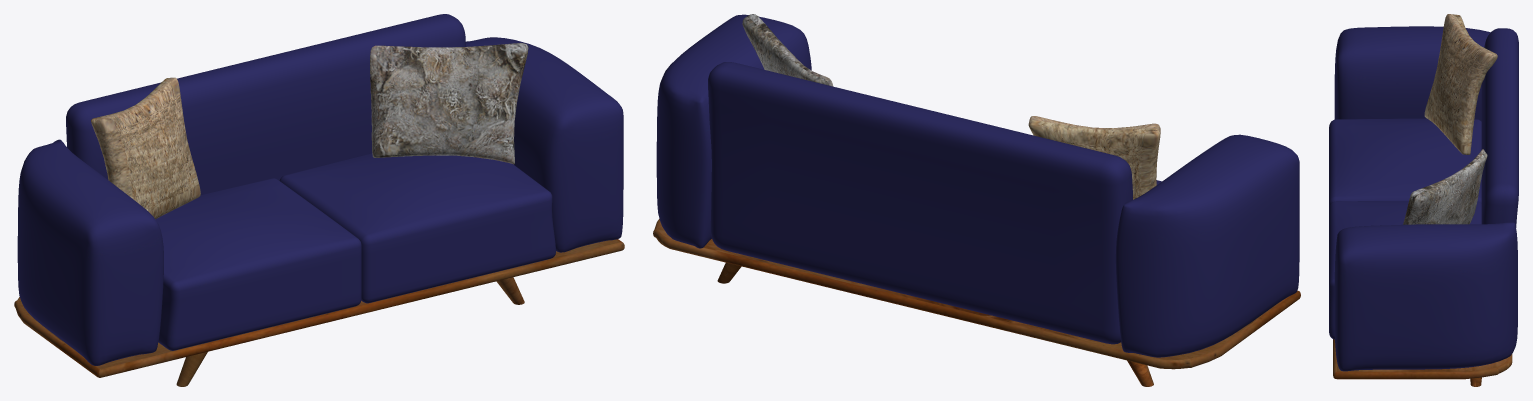
File: sofa_set_version_04.glb
3 renders of one model, left to right at view 1: azimuth 30°, elevation 25°; view 2: azimuth 150°, elevation 25°; view 3: azimuth 270°, elevation 25°, orthographic. The views are drawn at different scales.
Visible parts, largest first — view 1: Sofa_Sofa Set_Version_04_0, Pillow_02_Sofa Set_Version_04_0, Pillow_01_Sofa Set_Version_04_0; view 2: Sofa_Sofa Set_Version_04_0, Pillow_01_Sofa Set_Version_04_0, Pillow_02_Sofa Set_Version_04_0; view 3: Sofa_Sofa Set_Version_04_0, Pillow_01_Sofa Set_Version_04_0, Pillow_02_Sofa Set_Version_04_0.
Part boxes in pixels (x1,y1,x2,y2): Sofa_Sofa Set_Version_04_0: (14,14,624,386); Pillow_02_Sofa Set_Version_04_0: (370,43,528,164); Pillow_01_Sofa Set_Version_04_0: (91,77,200,219); Sofa_Sofa Set_Version_04_0: (653,14,1300,386); Pillow_01_Sofa Set_Version_04_0: (1028,116,1160,199); Pillow_02_Sofa Set_Version_04_0: (742,14,833,86); Sofa_Sofa Set_Version_04_0: (1329,26,1518,386); Pillow_01_Sofa Set_Version_04_0: (1424,14,1497,154); Pillow_02_Sofa Set_Version_04_0: (1403,149,1487,224).
Bounding box in the file's own units: 241 × 99.51 × 83.85.
Materials: 1 (1 with a texture image).
